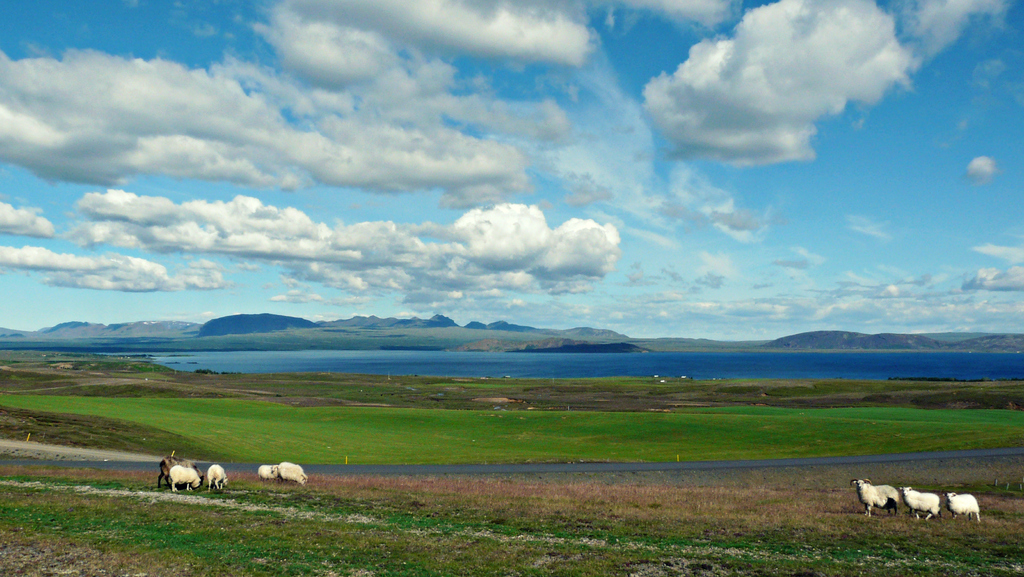sheep: (849, 480, 897, 516), (897, 486, 937, 518), (944, 489, 981, 521), (167, 464, 197, 492), (277, 461, 306, 487), (208, 462, 226, 487)
